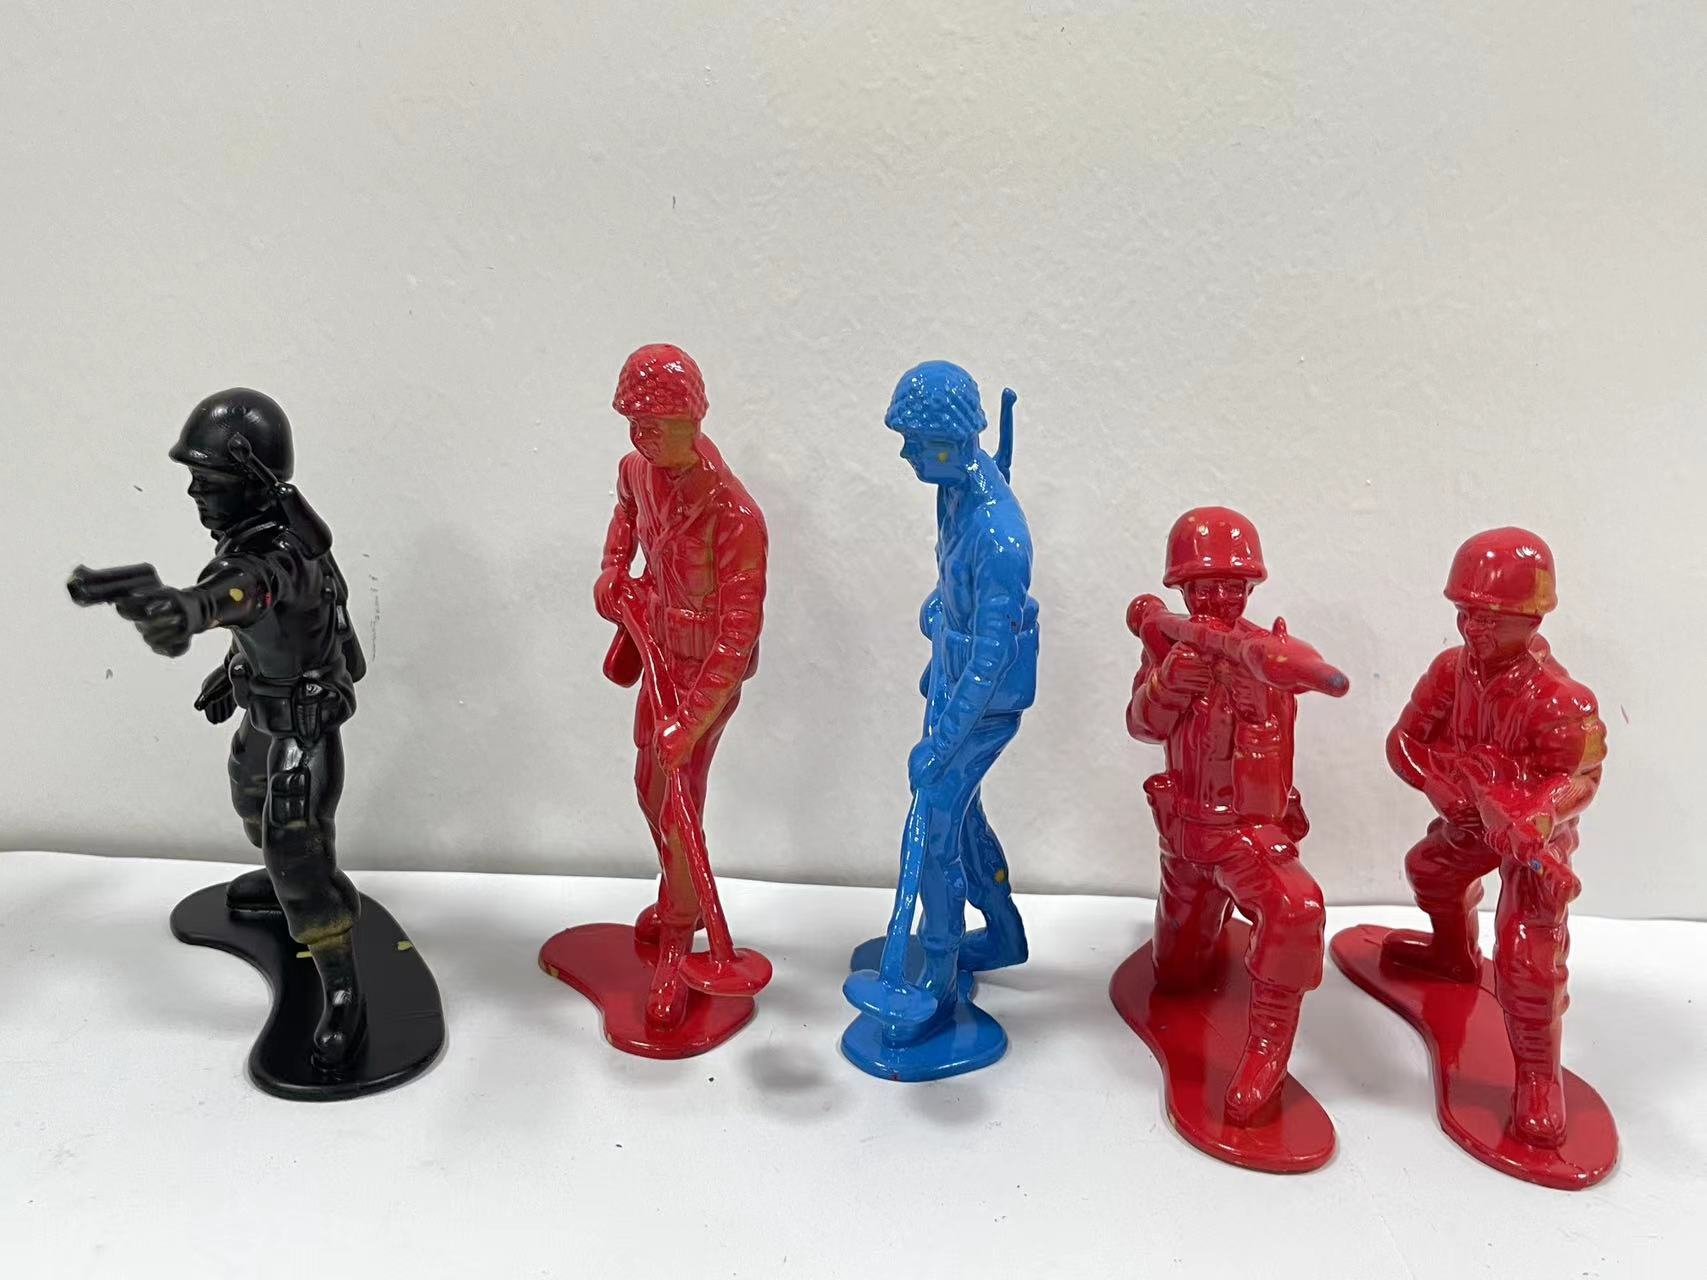black: (46, 355, 501, 1152)
blue: (831, 317, 1078, 1108)
red: (526, 304, 823, 1131), (1383, 493, 1680, 1221), (1081, 487, 1374, 1191)
